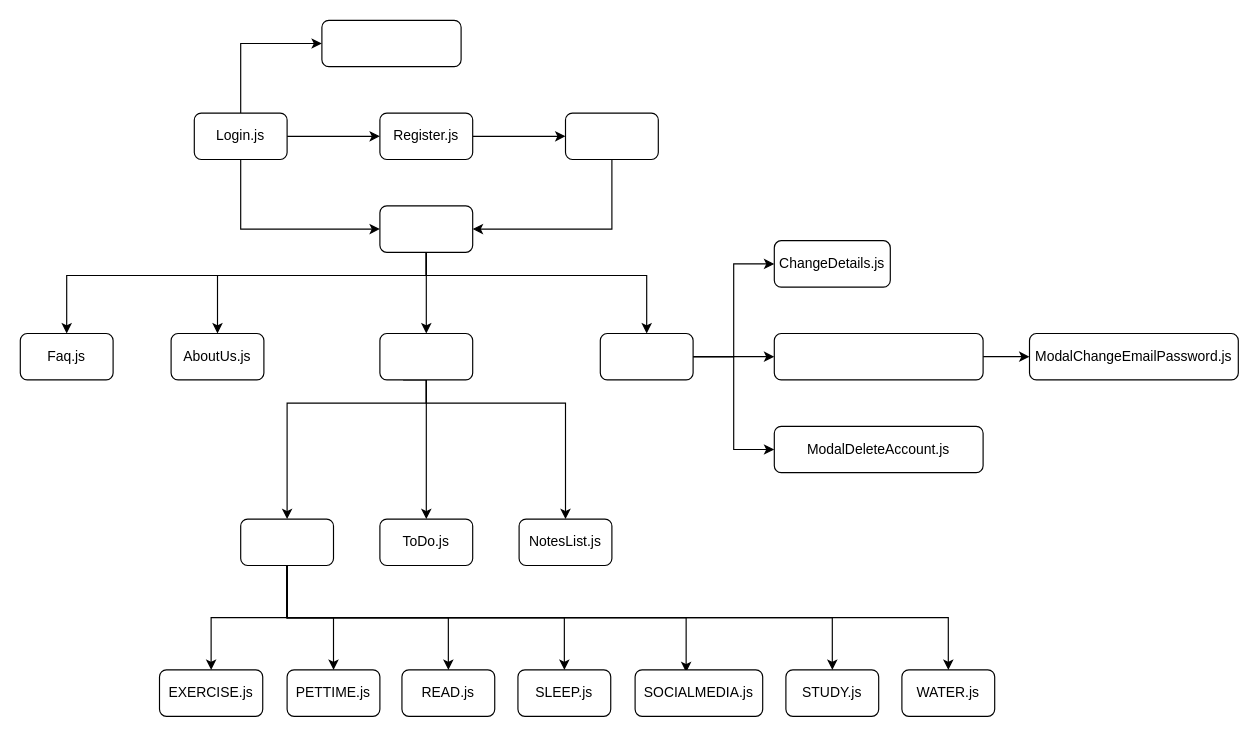
The diagram is 1259 pixels wide and 737 high, and some of its shapes have lost their labels. The box of each missing label's shape, as (x1, y1, x2, y2) in pixels:
BottomTab.js: (379, 332, 473, 380)
ChangeNameAndPassword.js: (773, 332, 983, 380)
Dashboard.js: (240, 518, 334, 566)
Drawer.js: (379, 205, 473, 252)
ForgotPassword.js: (321, 19, 461, 67)
Profile.js: (564, 112, 658, 160)
Settings.js: (599, 332, 693, 380)
